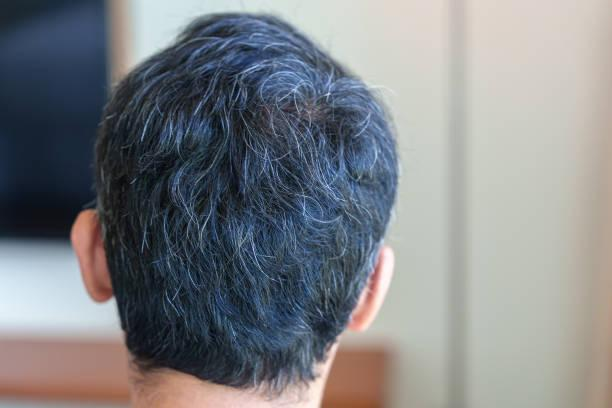dry hair: (262, 110, 355, 224)
grey hair: (247, 238, 281, 292), (256, 67, 323, 91), (201, 194, 218, 266), (140, 99, 154, 155), (140, 208, 152, 261), (192, 92, 204, 132), (161, 282, 174, 315)
